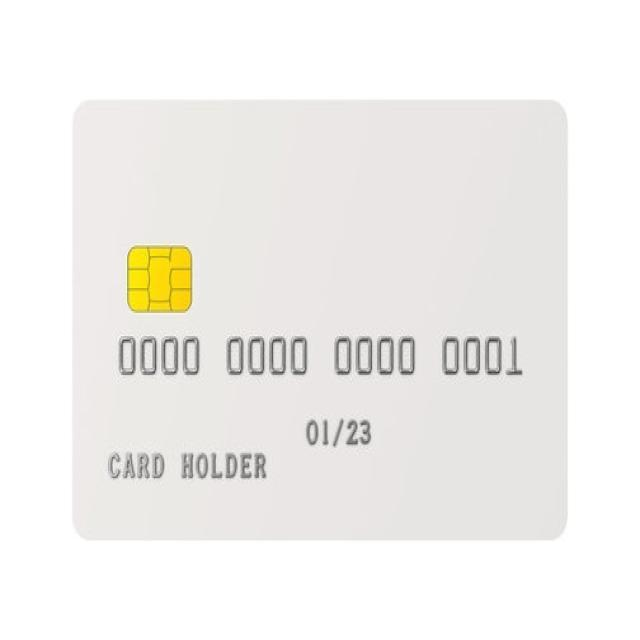payment_card: (71, 98, 569, 540)
